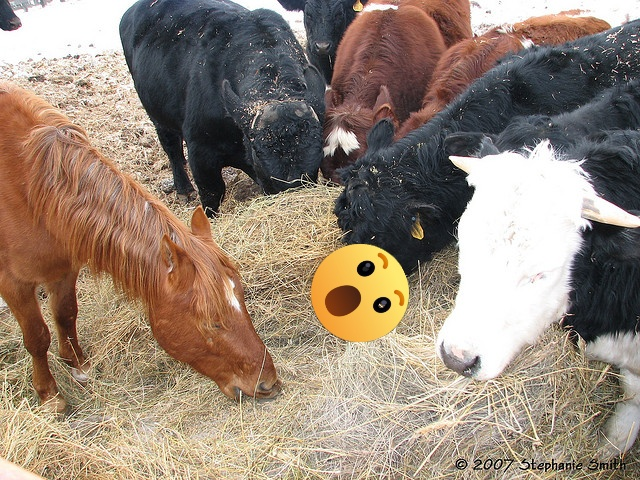wow: (311, 244, 409, 342)
